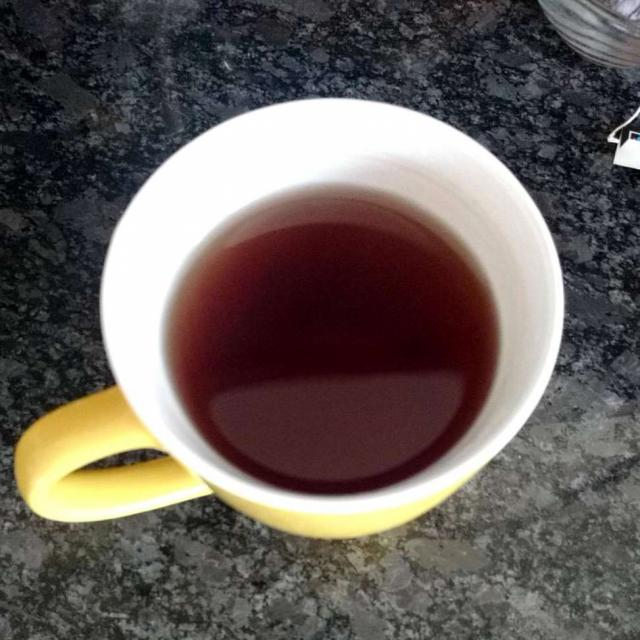tea: (167, 202, 493, 482)
